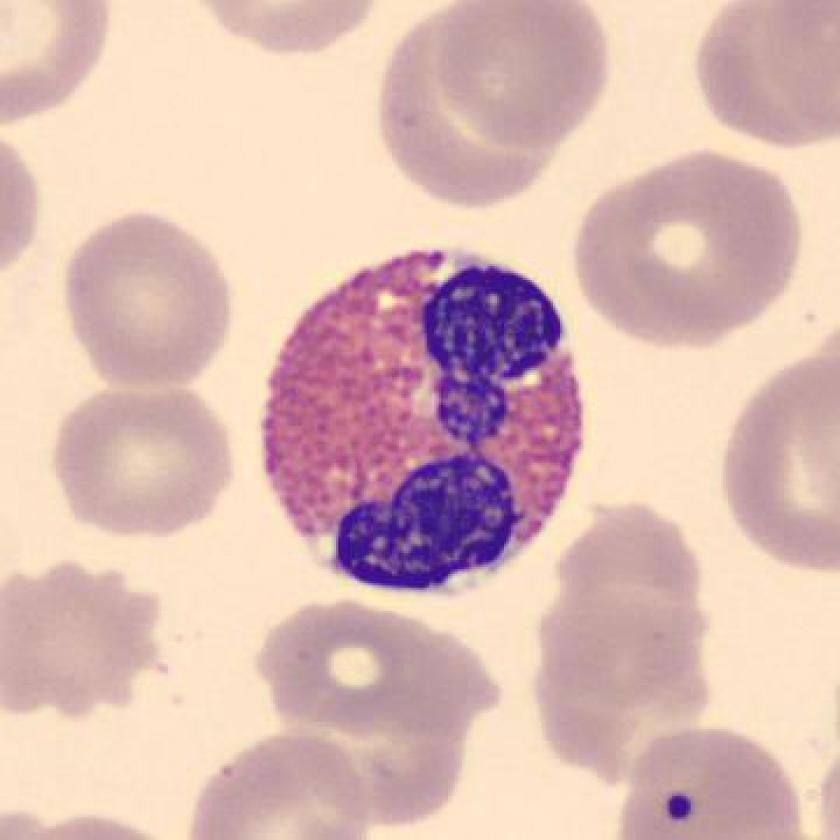eosinophil: (256, 235, 599, 607)
